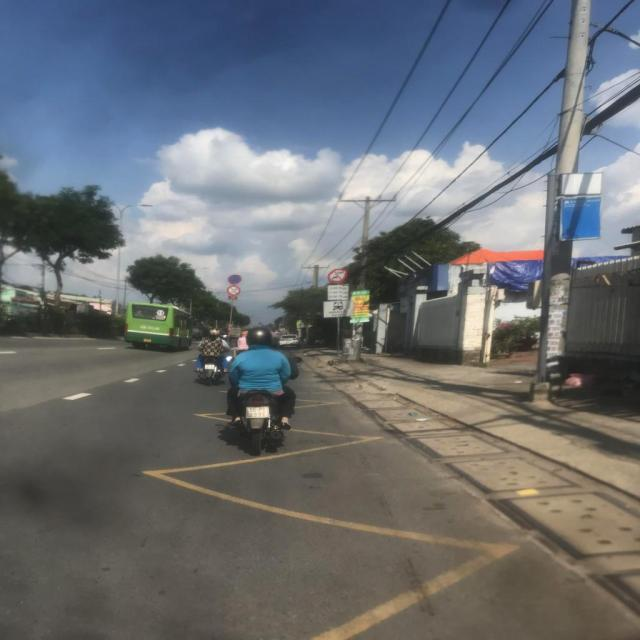cam_dung_xe_va_do_xe: (228, 275, 243, 286)
cam_o_to_tai_va_xe_khach: (328, 269, 350, 283)
cam_xe_2_banh_va_xe_3_banh_co_dong_co: (226, 286, 241, 296)
khac: (324, 300, 354, 318), (328, 284, 350, 300)
